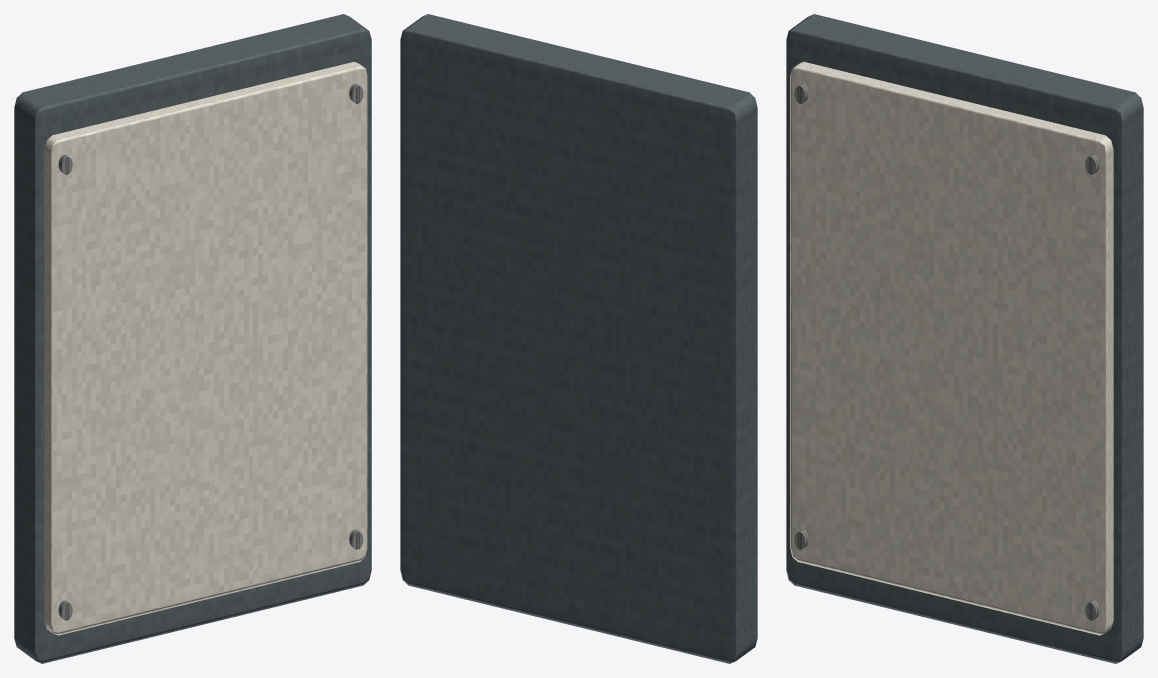
Rendered from outlet.glb.
3 renders of one model, left to right at view 1: azimuth 30°, elevation 25°; view 2: azimuth 150°, elevation 25°; view 3: azimuth 330°, elevation 25°, orthographic.
Visible parts, largest first — view 1: face, back; view 2: back; view 3: face, back.
Part boxes in pixels (box(x1,y1,x2,y2)): face: box(44, 61, 367, 635); back: box(14, 14, 371, 663); back: box(400, 14, 757, 663); face: box(790, 61, 1113, 635); back: box(786, 14, 1143, 663).
Bounding box in the file's own units: 0.073 × 0.115 × 0.0112.
3 materials, 3 textured.
